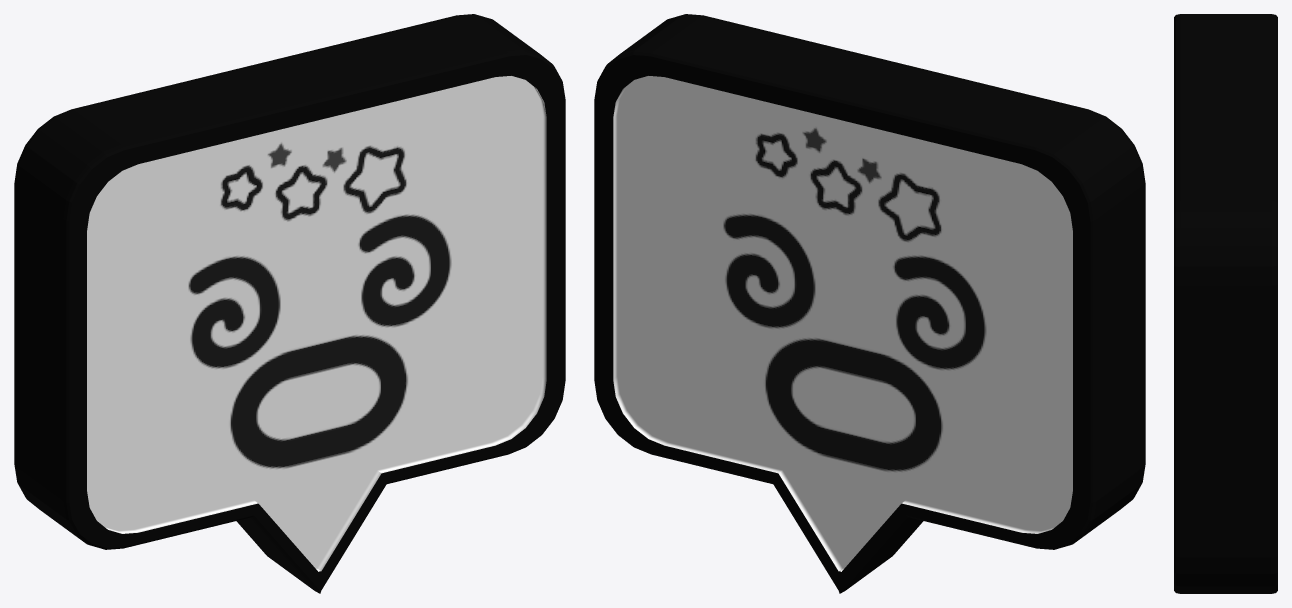
The model's file is Confusion_v2.fbx.
The picture shows the model from 3 angles, left to right: view 1: azimuth 30°, elevation 25°; view 2: azimuth 150°, elevation 25°; view 3: azimuth 270°, elevation 25°; orthographic projection. The views are drawn at different scales.
Visible parts, largest first — view 1: confusion; view 2: confusion; view 3: confusion.
Part boxes in pixels (<box>): confusion: <box>14,14,565,593</box>; confusion: <box>594,14,1145,593</box>; confusion: <box>1174,14,1277,593</box>.
Bounding box in the file's own units: 1.87 × 1.77 × 0.3496.
Materials: 1 (1 with a texture image).
